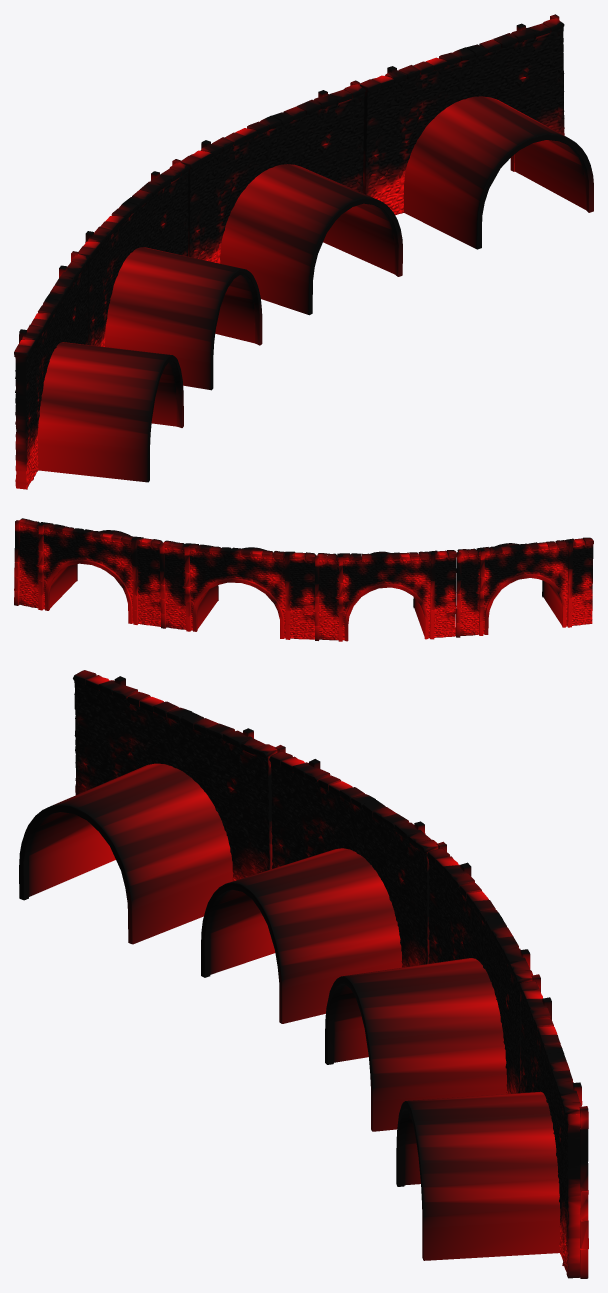
The model's file is SM_ArchWall_01_Splines_34.fbx.
3 renders of one model, top to bottom at view 1: azimuth 30°, elevation 25°; view 2: azimuth 150°, elevation 25°; view 3: azimuth 270°, elevation 25°, orthographic. The views are drawn at different scales.
Parts seen in each view (by area): view 1: SM_ArchWall_01_Splines_34_LOD0; view 2: SM_ArchWall_01_Splines_34_LOD0; view 3: SM_ArchWall_01_Splines_34_LOD0.
Part boxes in pixels (left/top/right/bottom): SM_ArchWall_01_Splines_34_LOD0: left=14, top=14, right=593, bottom=489; SM_ArchWall_01_Splines_34_LOD0: left=14, top=518, right=593, bottom=641; SM_ArchWall_01_Splines_34_LOD0: left=19, top=670, right=588, bottom=1278.
Size of the model in its own units: 7016 by 3810 by 1313.
